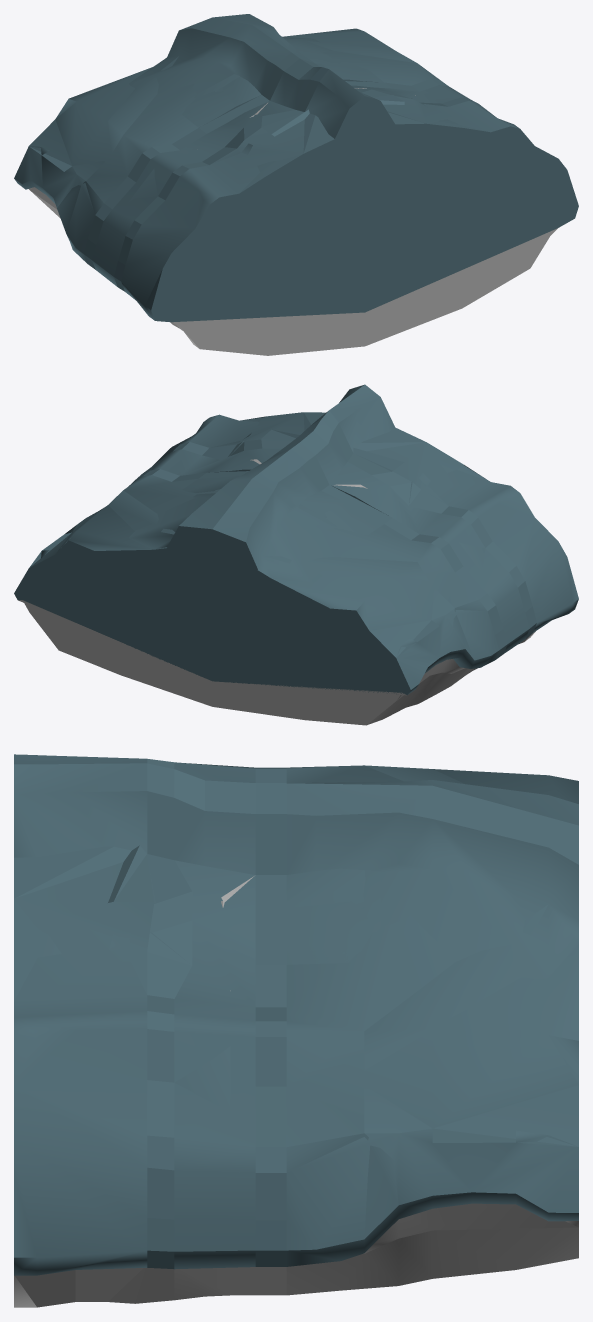
File: body2.fbx
3 views of the same model, one above another, from view 1: azimuth 30°, elevation 25°; view 2: azimuth 150°, elevation 25°; view 3: azimuth 270°, elevation 25° (orthographic). The views are drawn at different scales.
Parts seen in each view (by area): view 1: pCylinder34; view 2: pCylinder34; view 3: pCylinder34.
Part boxes in pixels (x1,y1,x2,y2): pCylinder34: [14, 14, 578, 355]; pCylinder34: [14, 384, 578, 725]; pCylinder34: [14, 754, 578, 1307].
Bounding box in the file's own units: 1.81 × 1.02 × 1.12.
